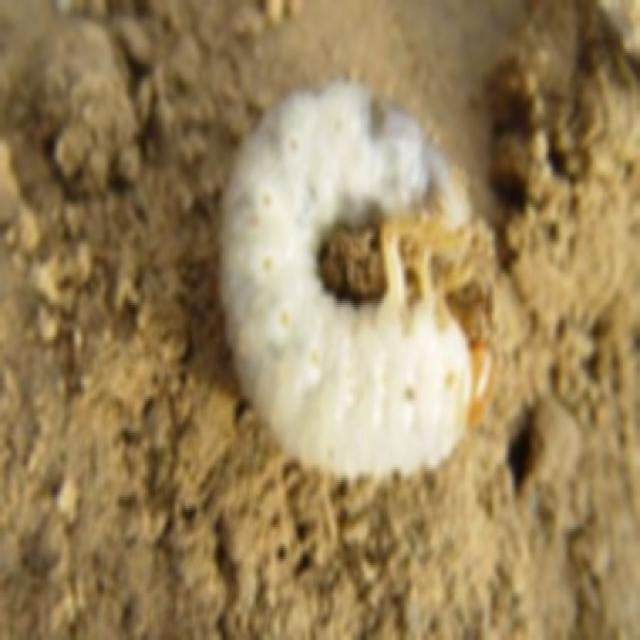grub: (218, 86, 498, 475)
